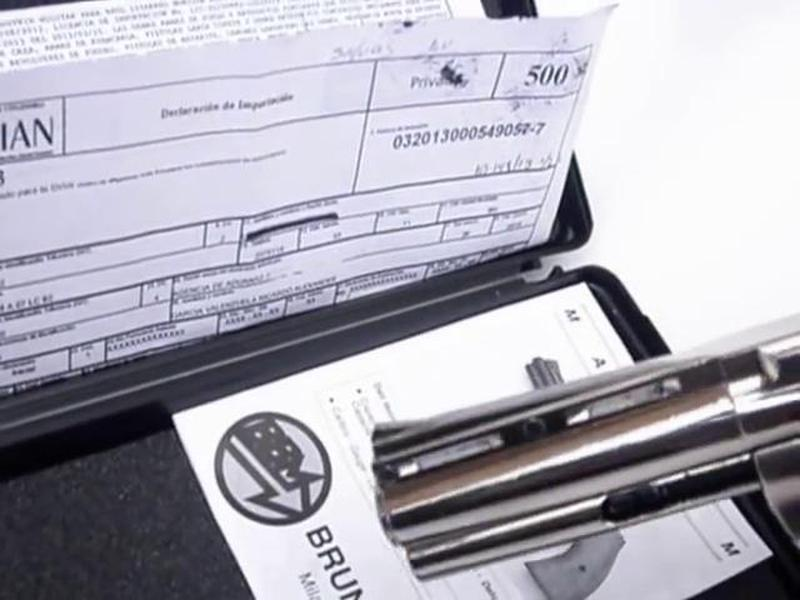Revolver: (308, 266, 796, 600)
